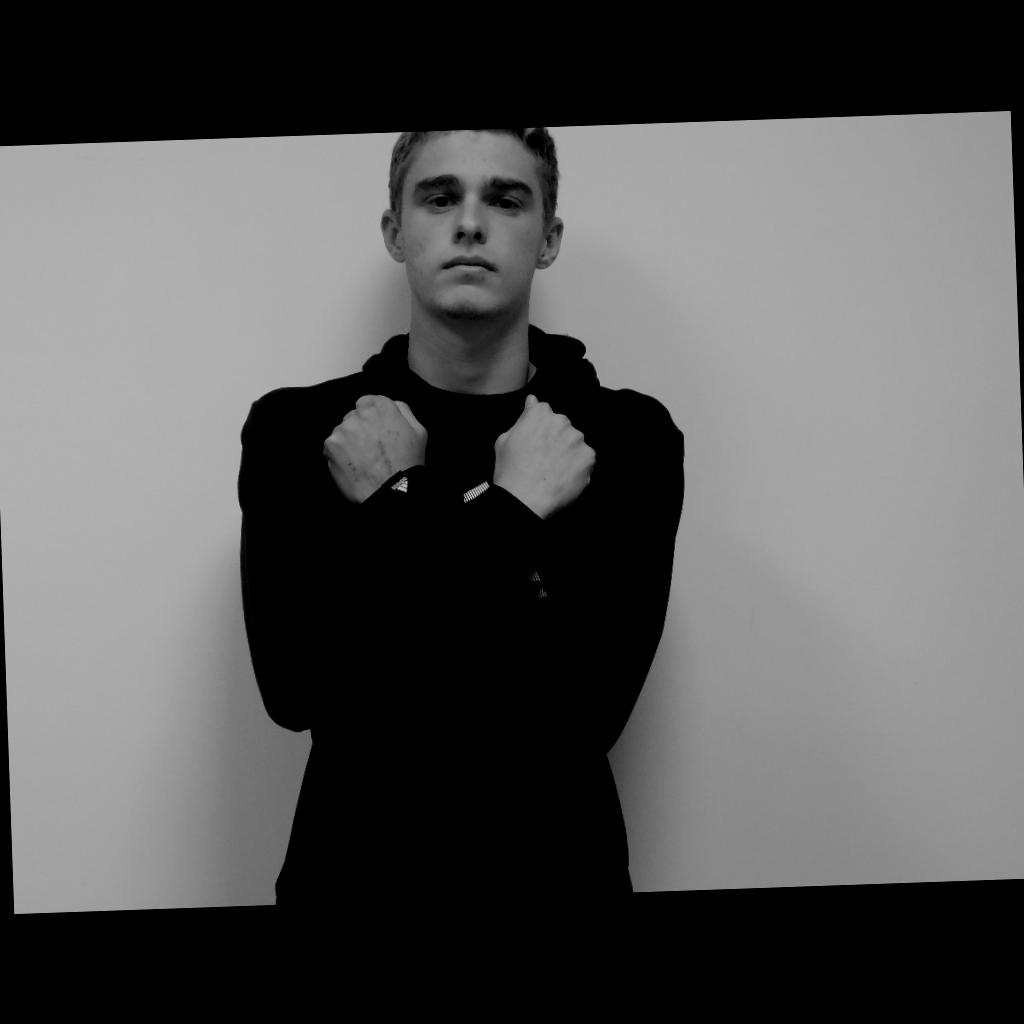love: (322, 387, 598, 521)
